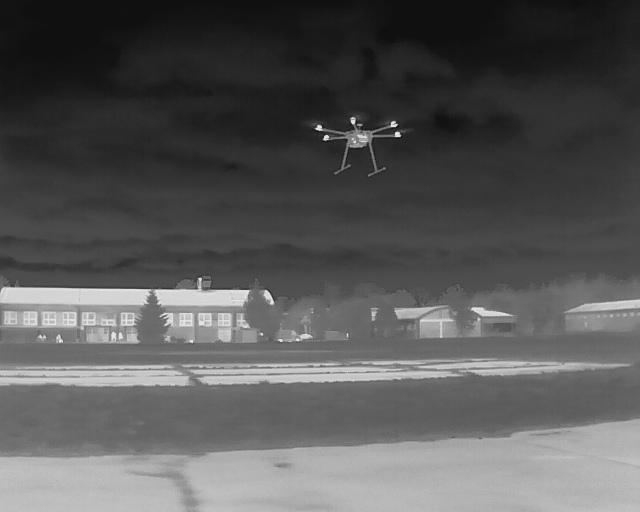drone: (308, 110, 412, 184)
